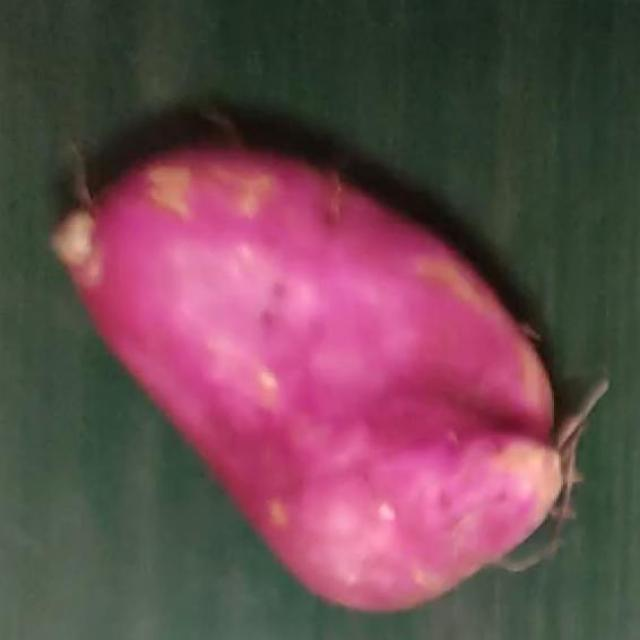Sweet Potato: (50, 144, 563, 615)
